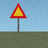sign: (10, 3, 27, 37)
